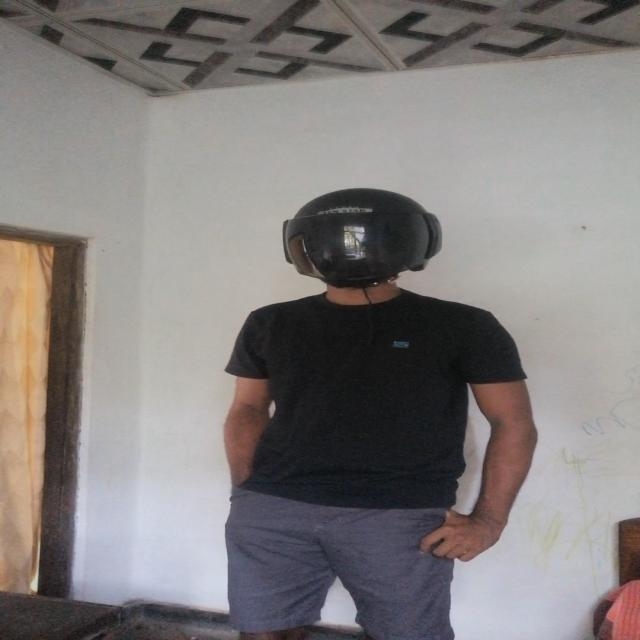Helmet_Wearer: (274, 180, 453, 318)
Person: (210, 186, 535, 635)
